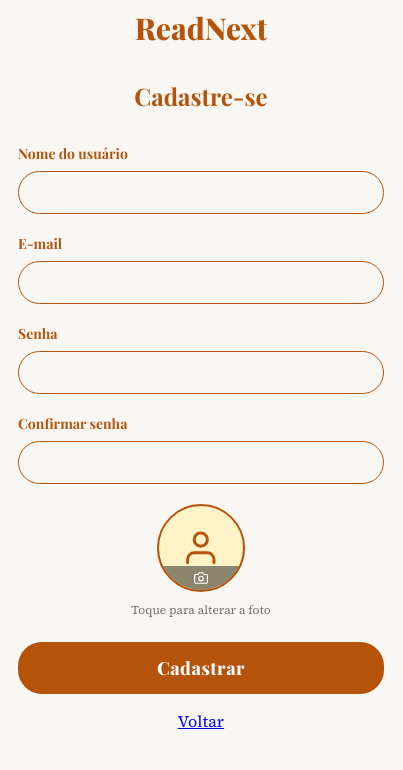
Página de Cadastro — Validações › exibe erro quando termos não são respondidos
In the field below "Nome do usuário": (201, 192) [18,171,384,214], type "Ana Clara"
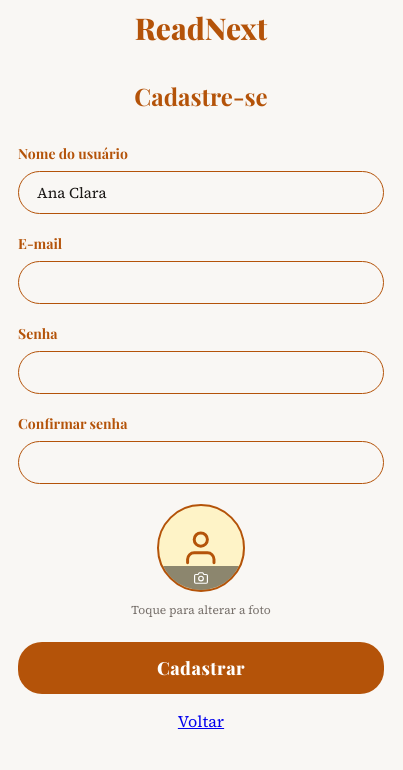
In the field below "E-mail": (201, 282) [18,261,384,304], type "ana@email.com"
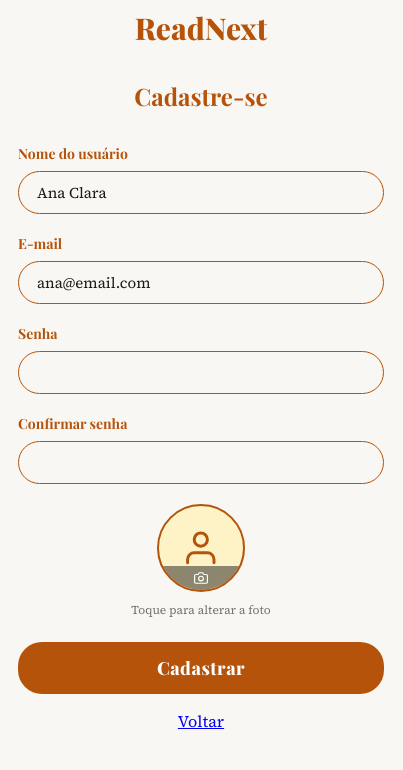
In the 1st password field: (201, 372) [18,351,384,394], type "senha123"
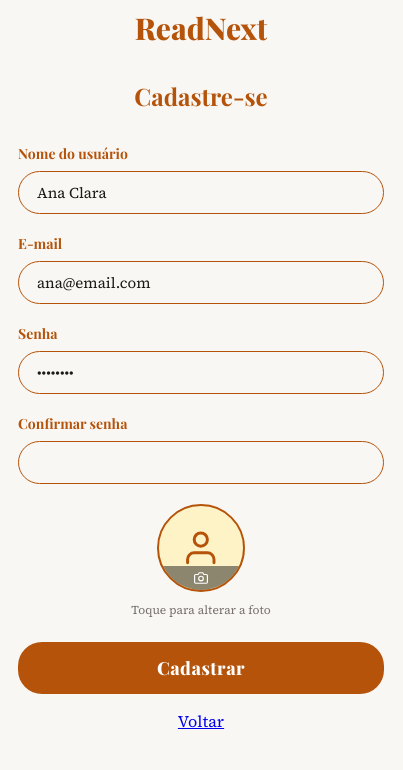
In the password field below "Confirmar senha": (201, 462) [18,441,384,484], type "senha123"
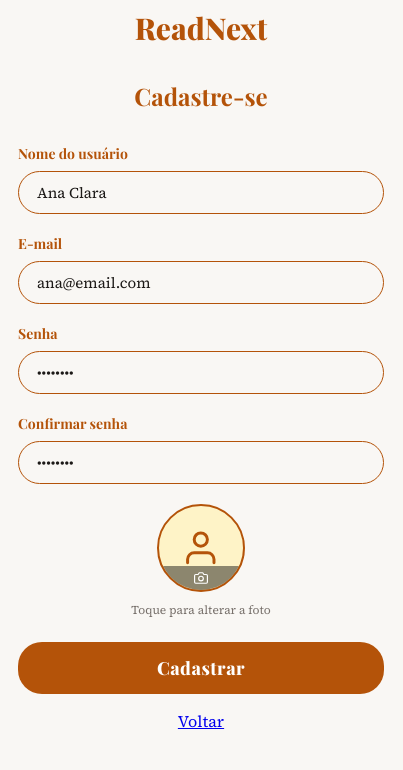
Click the button "Cadastrar": (201, 668) [18,642,384,694]
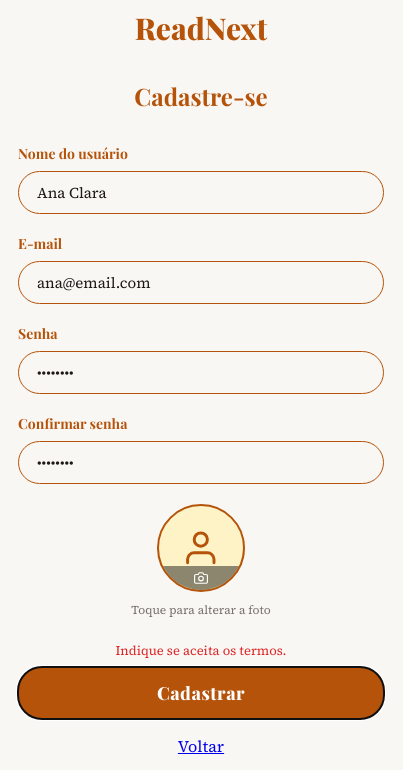
Expected: the text "Indique se aceita os termos." is shown, [116,642,286,659]
